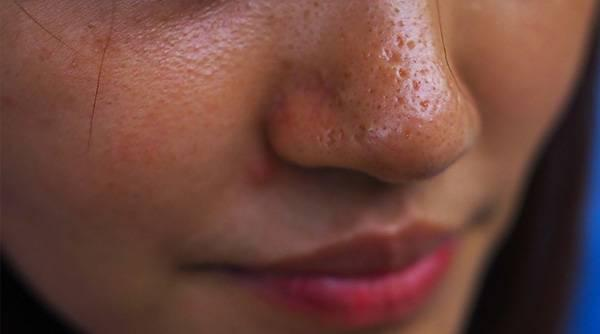Oily-Skin: (29, 29, 438, 165)
